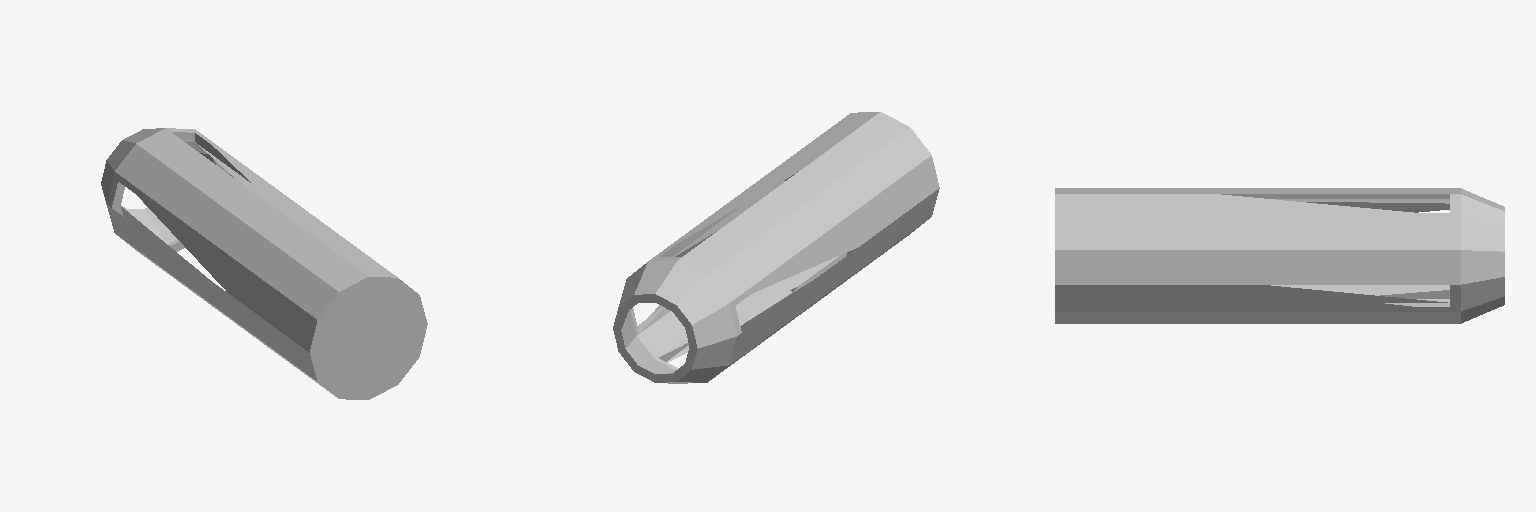
The model's file is Muzzle.obj.
The picture shows the model from 3 angles: view 1: azimuth 30°, elevation 25°; view 2: azimuth 150°, elevation 25°; view 3: azimuth 270°, elevation 25°; orthographic projection.
Parts seen in each view (by area): view 1: Cube.003_Cube.002; view 2: Cube.003_Cube.002; view 3: Cube.003_Cube.002.
Part boxes in pixels (x1,y1,x2,y2): Cube.003_Cube.002: (101, 128, 427, 399); Cube.003_Cube.002: (613, 112, 939, 383); Cube.003_Cube.002: (1055, 188, 1504, 323).
Bounding box in the file's own units: 0.0755 × 0.0755 × 0.2496.